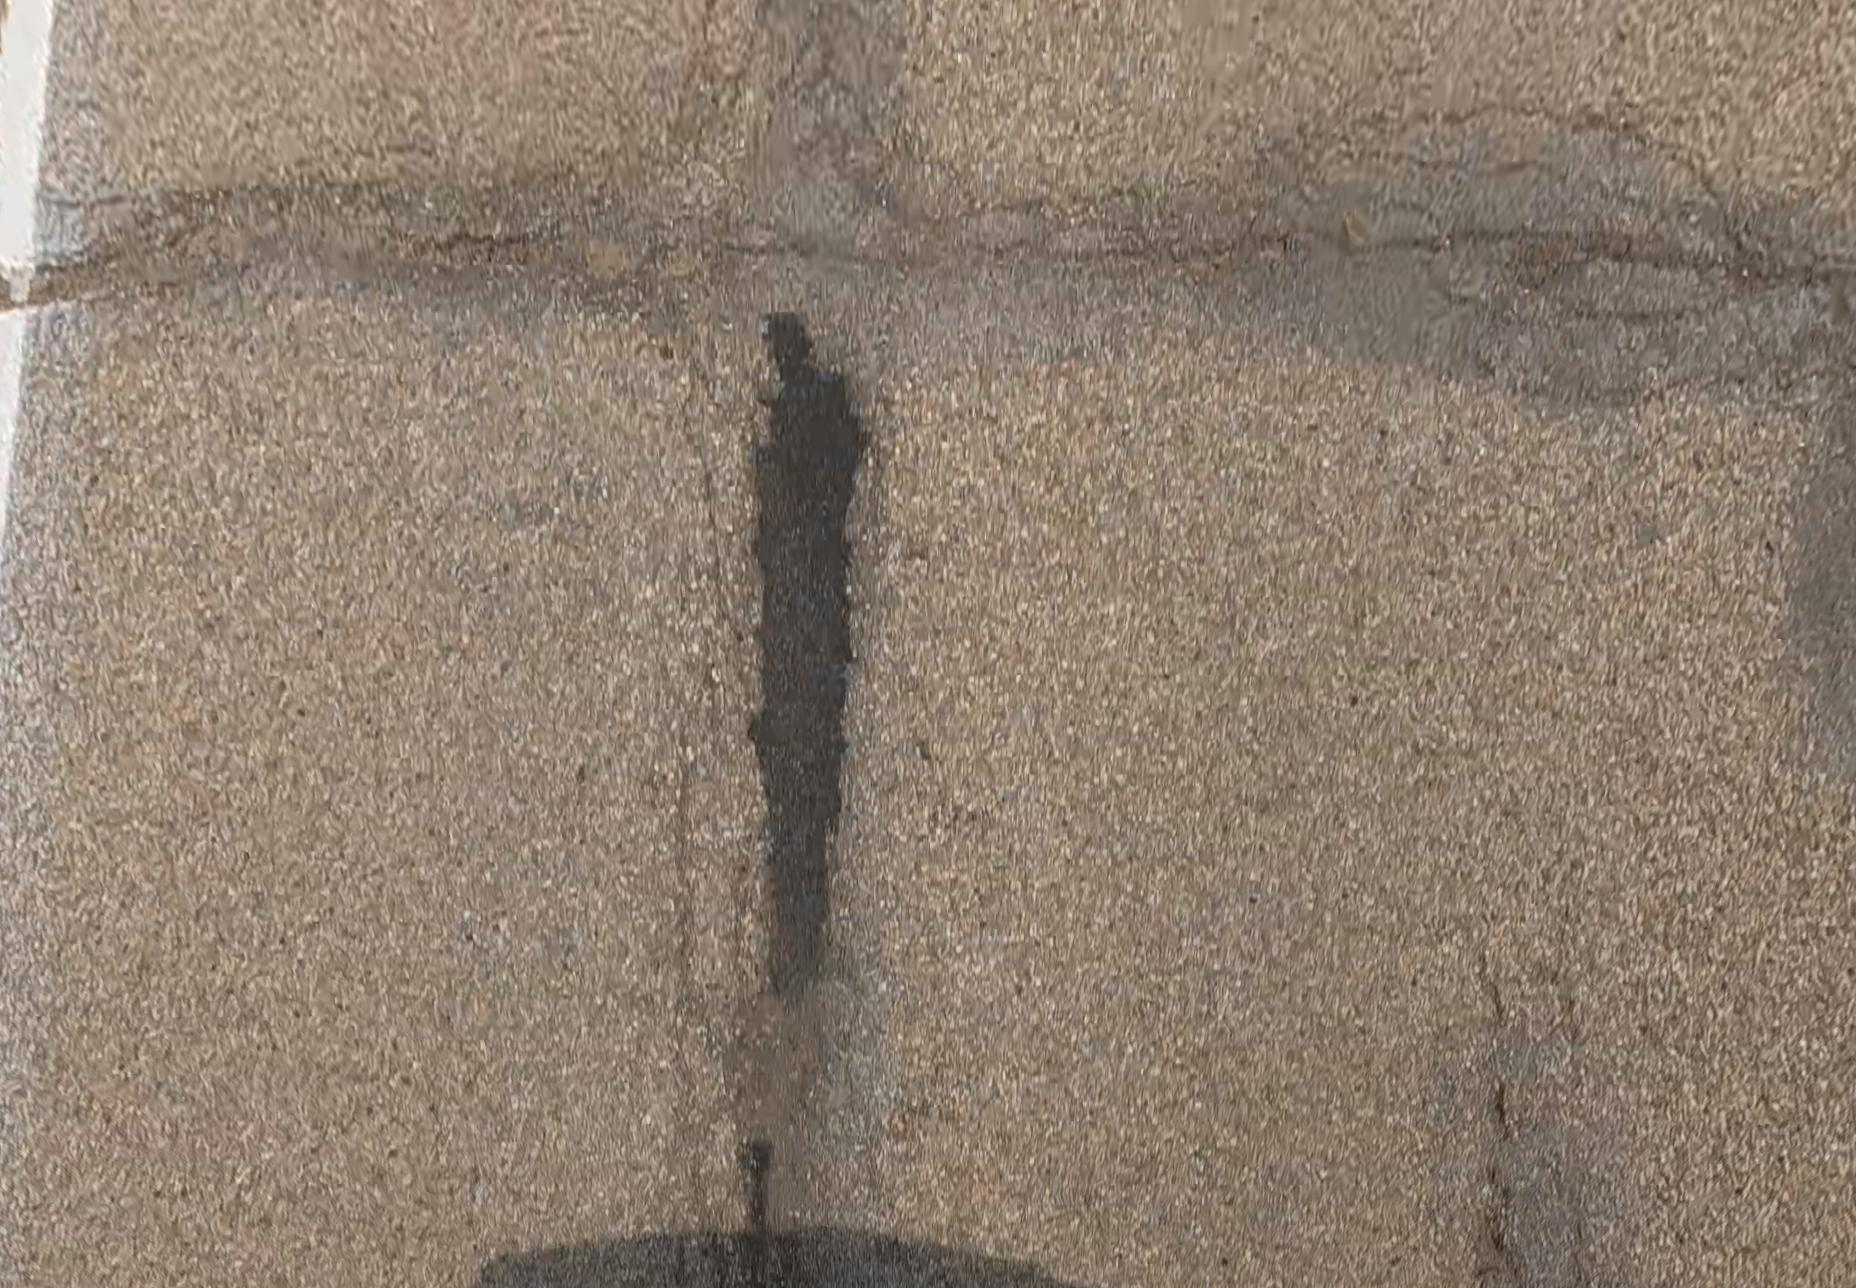pothole_patch_good: (750, 310, 865, 1000)
pothole_patch_poor: (0, 0, 1856, 411)
